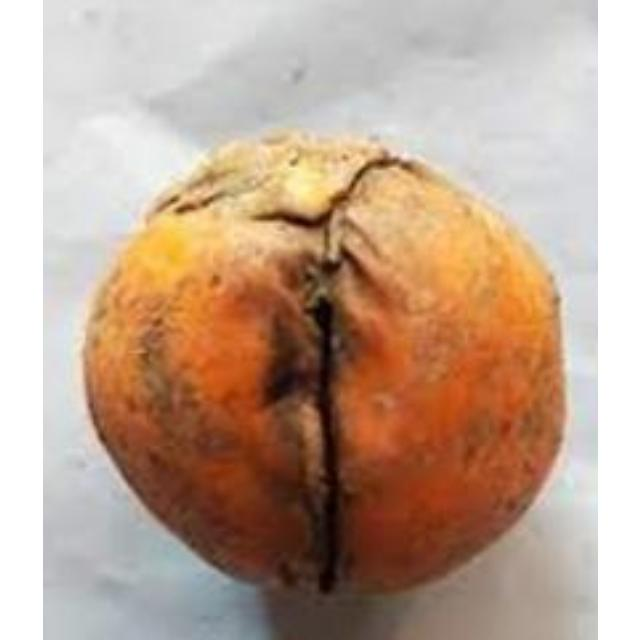damaged: (79, 130, 568, 603)
